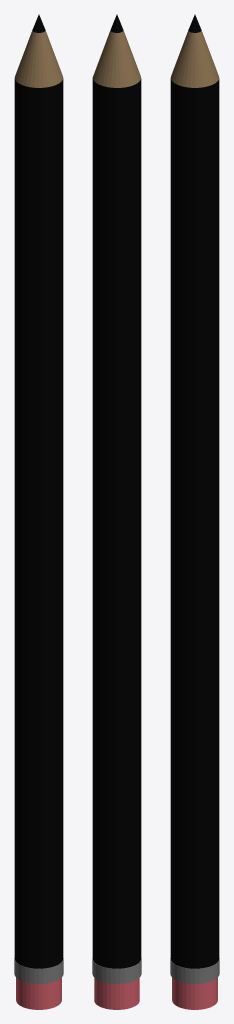
File: карандаш.fbx
3 views of the same model, side by side, from view 1: azimuth 90°, elevation 25°; view 2: azimuth 210°, elevation 25°; view 3: azimuth 270°, elevation 25° (orthographic).
Parts seen in each view (by area): view 1: Цилиндр, Конус, Цилиндр.001, Цилиндр.002; view 2: Цилиндр, Конус, Цилиндр.001, Цилиндр.002; view 3: Цилиндр, Конус, Цилиндр.001, Цилиндр.002.
Boxes of the visible parts, x1=… form: Цилиндр: x1=14, y1=78, x2=63, y2=968; Конус: x1=14, y1=30, x2=63, y2=87; Цилиндр.001: x1=16, y1=977, x2=61, y2=1009; Цилиндр.002: x1=14, y1=958, x2=63, y2=983; Цилиндр: x1=92, y1=77, x2=141, y2=968; Конус: x1=93, y1=30, x2=140, y2=87; Цилиндр.001: x1=94, y1=978, x2=139, y2=1009; Цилиндр.002: x1=92, y1=958, x2=141, y2=983; Цилиндр: x1=170, y1=78, x2=219, y2=968; Конус: x1=170, y1=30, x2=219, y2=87; Цилиндр.001: x1=172, y1=977, x2=217, y2=1009; Цилиндр.002: x1=170, y1=958, x2=219, y2=983.
Bounding box in the file's own units: 13.58 × 300 × 13.58.
